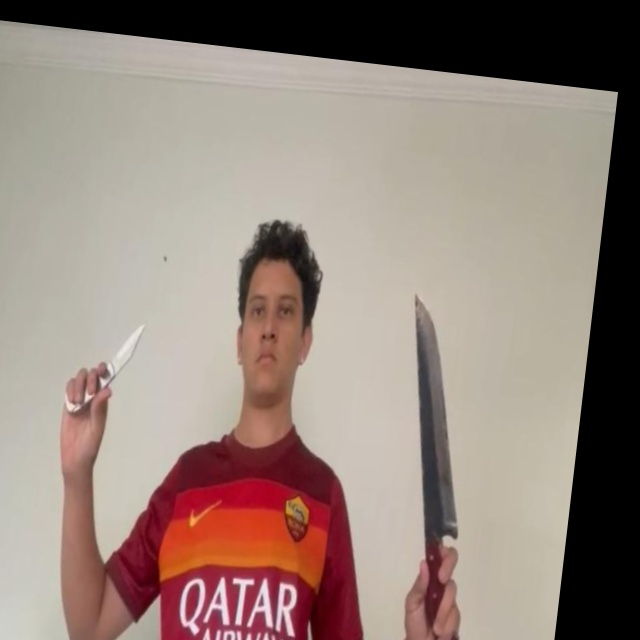Sharp-Object: (389, 291, 486, 539), (110, 318, 147, 380)
